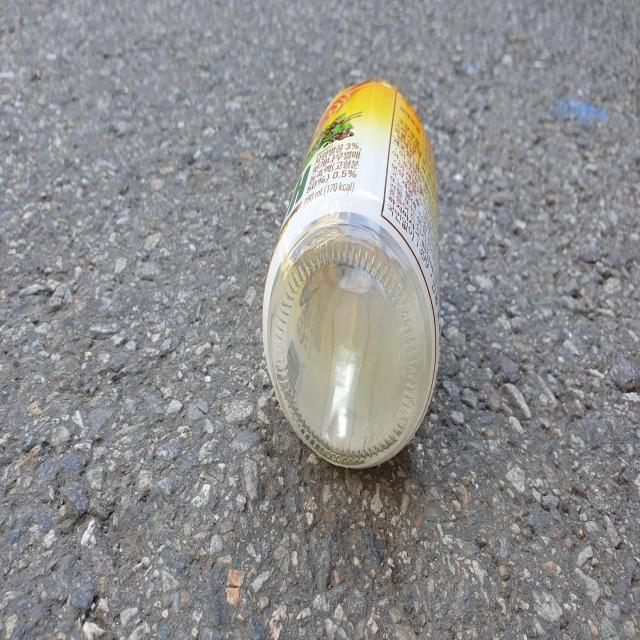glass: (263, 79, 441, 468)
